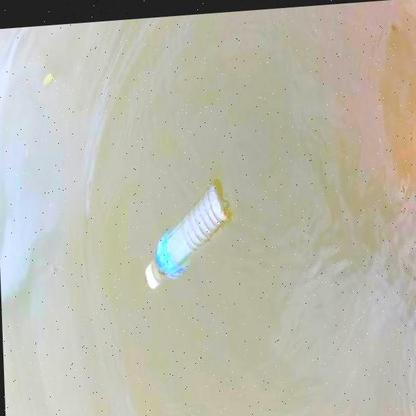plastic bottle: (144, 186, 230, 289)
